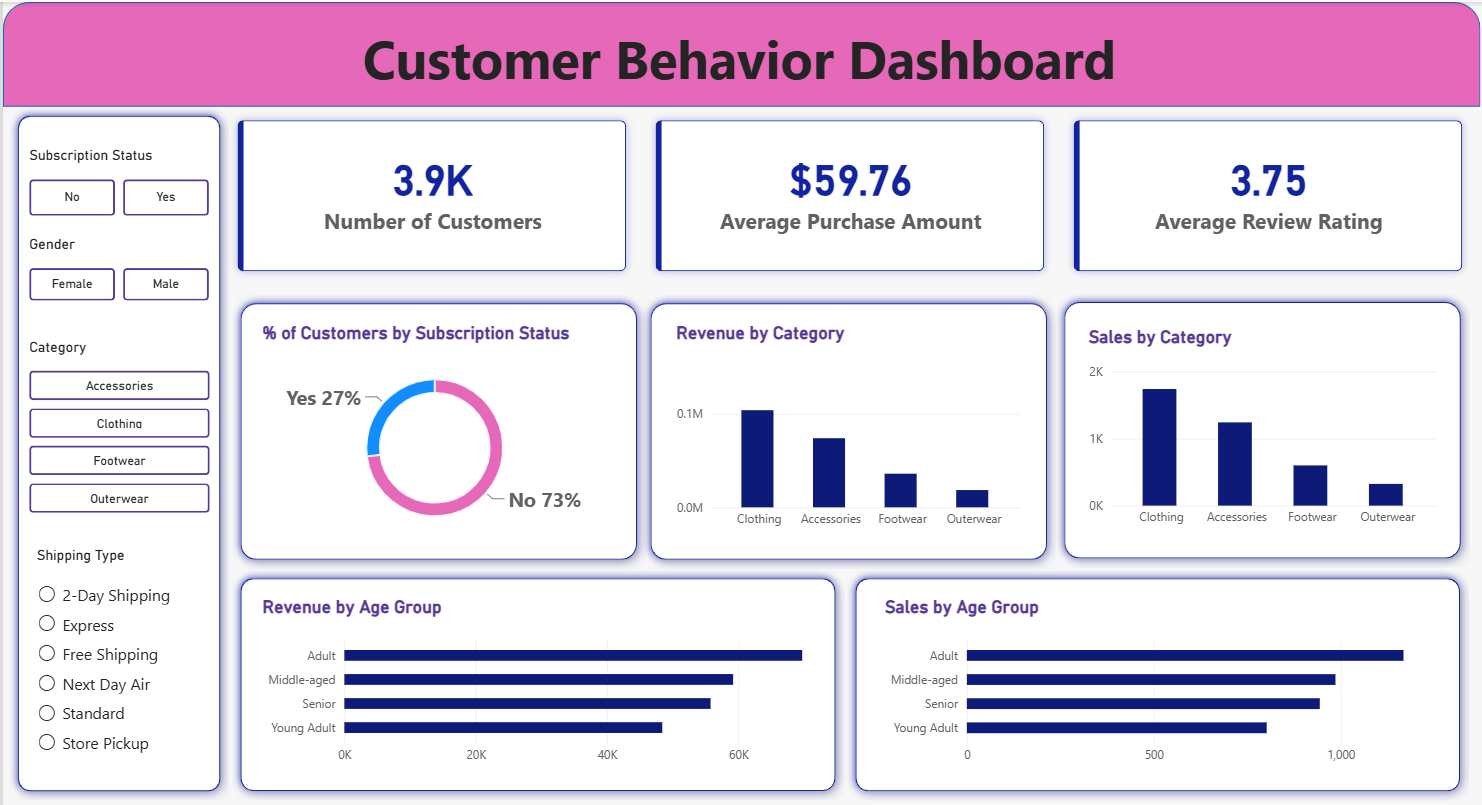

This screenshot's page, from the dashboard's own definition file:
{"tool":"powerbi","page":{"name":"Page 1","canvas":[1500,820],"ordinal":0},"visuals":[{"type":"cardVisual","fields":{"Data":["customer.Number of Customers","customer.Average Purchase Amount","customer.Average Review Rating"]},"box":[227.5,108.8,1266.2,175],"z":0},{"type":"shape","box":[0,0,1498.5,106.2],"z":1000},{"type":"textbox","box":[6.2,0,1913.8,90.8],"z":2000},{"type":"shape","box":[232.5,296.2,420,278],"z":3000},{"type":"donutChart","title":"% of Customers by Subscription Status","fields":{"Category":["customer.Subscription Status"],"Y":["CountNonNull(customer.Customer ID)"]},"box":[247.5,310,381.2,247.5],"z":4000},{"type":"shape","box":[647.5,296.2,420,278],"z":5000},{"type":"shape","box":[1067.5,295,420,278],"z":6000},{"type":"textbox","box":[0,20,1487.7,70.8],"z":7000},{"type":"clusteredColumnChart","title":"Revenue by Category","fields":{"Category":["customer.Category"],"Y":["Sum(customer.Purchase Amount (USD))"]},"box":[666.2,310,381.2,242.5],"z":8000},{"type":"clusteredColumnChart","title":"Sales by Category","fields":{"Category":["customer.Category"],"Y":["CountNonNull(customer.Customer ID)"]},"box":[1085,315,385,237],"z":9000},{"type":"shape","box":[6.2,106.2,223.1,703.1],"z":10000},{"type":"advancedSlicerVisual","fields":{"Values":["customer.Subscription Status"]},"box":[26.2,147.7,183.1,70.8],"z":11000},{"type":"advancedSlicerVisual","fields":{"Values":["customer.Gender"]},"box":[26.2,236.9,183.1,66.2],"z":12000},{"type":"advancedSlicerVisual","fields":{"Values":["customer.Category"]},"box":[26.2,341.2,183.1,180],"z":13000},{"type":"listSlicer","fields":{"Values":["customer.Shipping Type"]},"box":[33.8,552.5,168,220],"z":14000},{"type":"shape","box":[232.5,575,621.2,233.8],"z":15000},{"type":"clusteredBarChart","title":"Revenue by Age Group","fields":{"Y":["Sum(customer.Purchase Amount (USD))"],"Category":["customer.age_group"]},"box":[247.5,588.8,591.2,203.8],"z":16000},{"type":"shape","box":[856.2,575,631,234],"z":17000},{"type":"clusteredBarChart","title":"Sales by Age Group","fields":{"Category":["customer.age_group"],"Y":["CountNonNull(customer.Customer ID)"]},"box":[878.8,588.8,585,204],"z":18000}]}

Visuals, with their boxes in screenshot pixels (x1, y1, x2, y2), scaled from the page's 1500x820 canvas onto the 1482x805 screenshot:
cardVisual - customer.Number of Customers x customer.Average Purchase Amount: [x1=225, y1=107, x2=1476, y2=279]
shape: [x1=0, y1=0, x2=1481, y2=104]
textbox: [x1=6, y1=0, x2=1481, y2=89]
shape: [x1=230, y1=291, x2=645, y2=564]
"% of Customers by Subscription Status" donutChart: [x1=245, y1=304, x2=621, y2=547]
shape: [x1=640, y1=291, x2=1055, y2=564]
shape: [x1=1055, y1=290, x2=1470, y2=563]
textbox: [x1=0, y1=20, x2=1470, y2=89]
"Revenue by Category" clusteredColumnChart: [x1=658, y1=304, x2=1035, y2=542]
"Sales by Category" clusteredColumnChart: [x1=1072, y1=309, x2=1452, y2=542]
shape: [x1=6, y1=104, x2=227, y2=794]
advancedSlicerVisual - customer.Subscription Status: [x1=26, y1=145, x2=207, y2=215]
advancedSlicerVisual - customer.Gender: [x1=26, y1=233, x2=207, y2=298]
advancedSlicerVisual - customer.Category: [x1=26, y1=335, x2=207, y2=512]
listSlicer - customer.Shipping Type: [x1=33, y1=542, x2=199, y2=758]
shape: [x1=230, y1=564, x2=843, y2=794]
"Revenue by Age Group" clusteredBarChart: [x1=245, y1=578, x2=829, y2=778]
shape: [x1=846, y1=564, x2=1469, y2=794]
"Sales by Age Group" clusteredBarChart: [x1=868, y1=578, x2=1446, y2=778]
